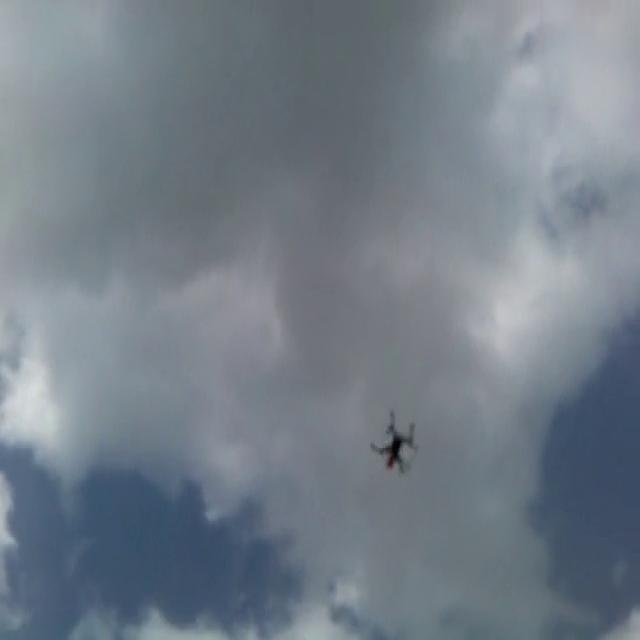drone: (367, 404, 422, 474)
